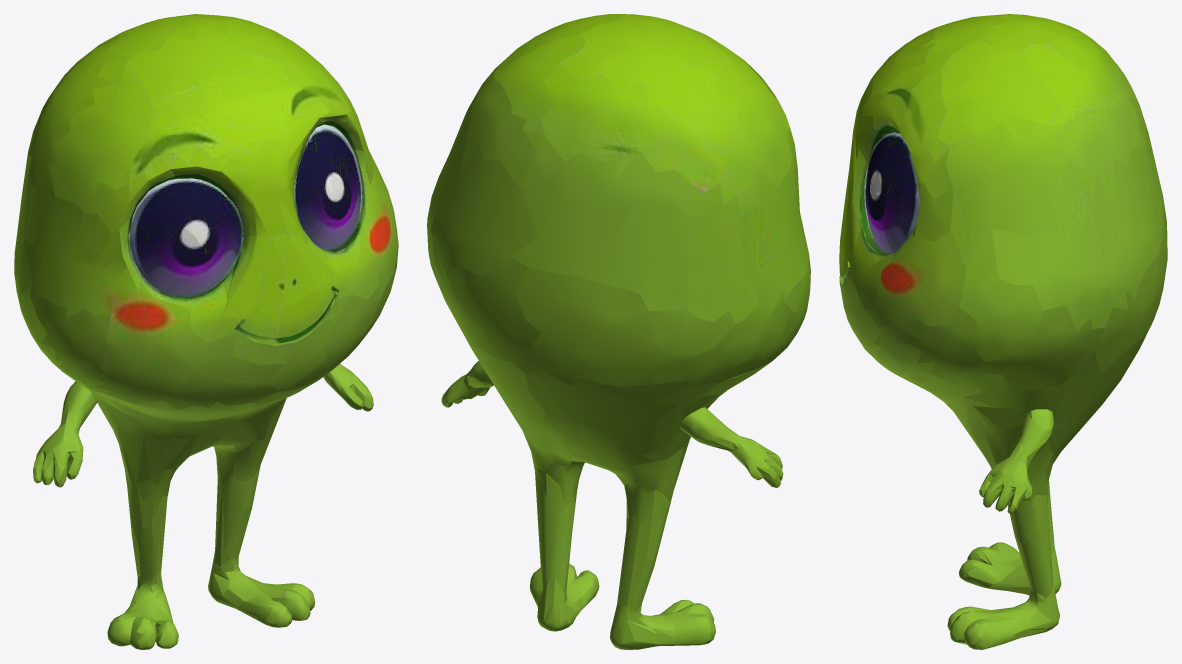
File: fork.glb
3 views of the same model, side by side, from view 1: azimuth 30°, elevation 25°; view 2: azimuth 150°, elevation 25°; view 3: azimuth 270°, elevation 25° (orthographic). The views are drawn at different scales.
Size of the model in its own units: 1.15 by 1.9 by 0.9821.
1 material, 1 textured.
